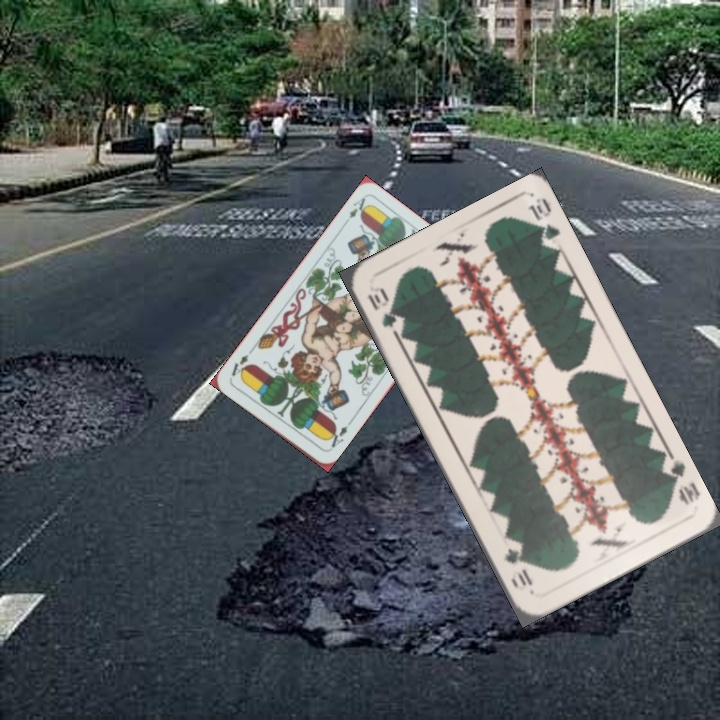EA: (339, 194, 372, 228), (322, 418, 353, 454)
G10: (657, 458, 702, 509), (363, 284, 400, 331)
